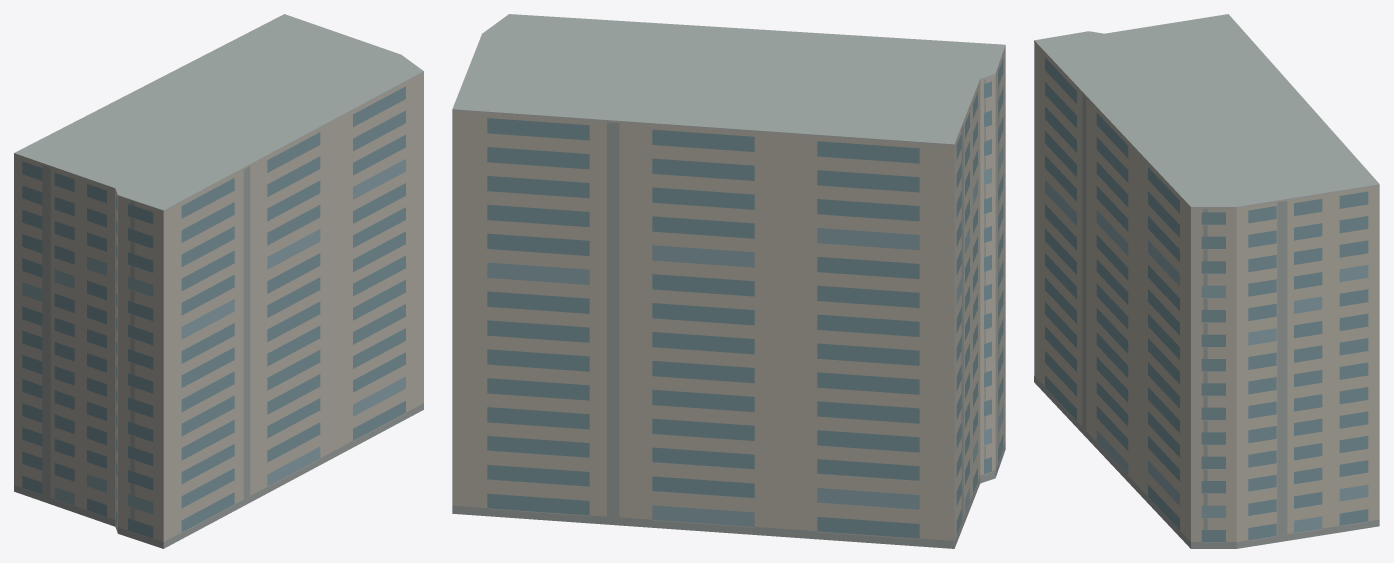
File: residential-0de1f1c4-6bad-4feb-a8f1-9597c2670efb.glb
3 renders of one model, left to right at view 1: azimuth 30°, elevation 25°; view 2: azimuth 150°, elevation 25°; view 3: azimuth 270°, elevation 25°, orthographic. The views are drawn at different scales.
Parts seen in each view (by area): view 1: residential-0de1f1c4-6bad-4feb-a8f1-9597c2670efb.tmp; view 2: residential-0de1f1c4-6bad-4feb-a8f1-9597c2670efb.tmp; view 3: residential-0de1f1c4-6bad-4feb-a8f1-9597c2670efb.tmp.
Boxes of the visible parts, x1,y1,x2,y2 form: residential-0de1f1c4-6bad-4feb-a8f1-9597c2670efb.tmp: [14, 14, 423, 548]; residential-0de1f1c4-6bad-4feb-a8f1-9597c2670efb.tmp: [452, 14, 1005, 548]; residential-0de1f1c4-6bad-4feb-a8f1-9597c2670efb.tmp: [1034, 14, 1379, 548].
Bounding box in the file's own units: 51.67 × 42.7 × 39.12.
